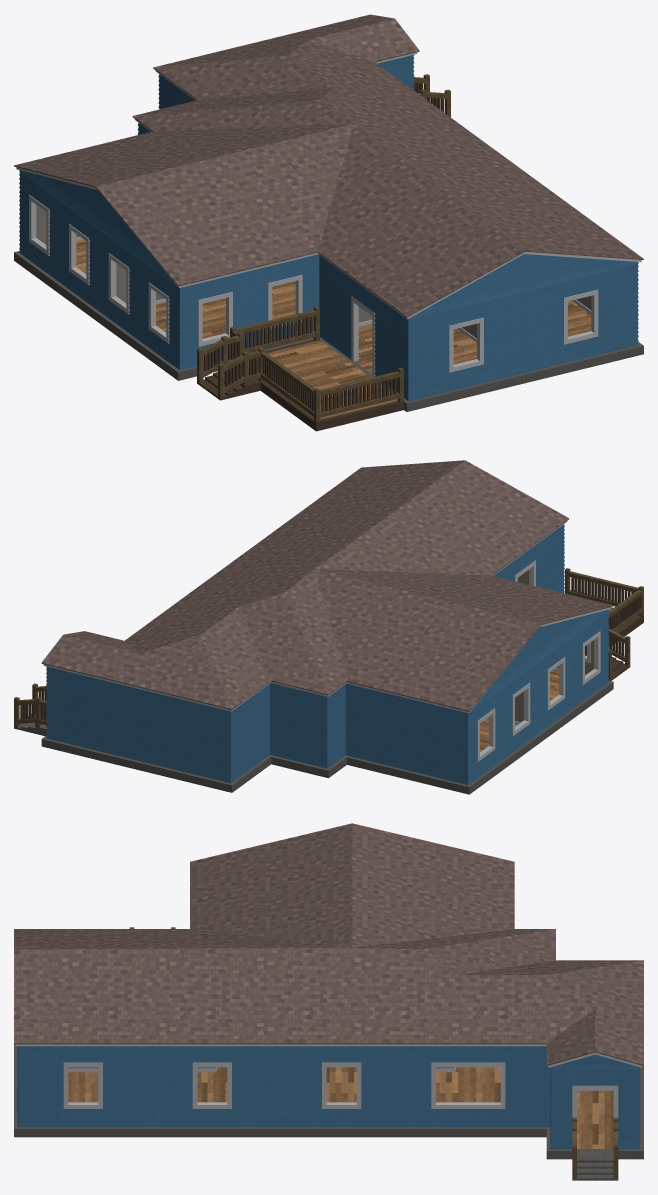
3 renders of one model, top to bottom at view 1: azimuth 30°, elevation 25°; view 2: azimuth 150°, elevation 25°; view 3: azimuth 270°, elevation 25°, orthographic. The views are drawn at different scales.
Visible parts, largest first — view 1: building_Roof, building_Siding, building_Floor, building_Frames, building_Posts_Lg, building_Porch, building_Posts_Sm; view 2: building_Roof, building_Siding, building_Floor, building_Posts_Lg, building_Frames, building_Posts_Sm, building_Porch; view 3: building_Roof, building_Siding, building_Floor, building_Frames, building_Porch, building_Posts_Lg.
Part boxes in pixels (x1=…): building_Roof: x1=14, y1=14, x2=643, y2=319; building_Siding: x1=19, y1=54, x2=638, y2=401; building_Floor: x1=14, y1=239, x2=643, y2=411; building_Frames: x1=29, y1=195, x2=598, y2=376; building_Posts_Lg: x1=197, y1=74, x2=450, y2=422; building_Porch: x1=197, y1=339, x2=403, y2=431; building_Posts_Sm: x1=204, y1=83, x2=443, y2=412; building_Roof: x1=41, y1=460, x2=613, y2=713; building_Siding: x1=46, y1=524, x2=608, y2=784; building_Floor: x1=41, y1=670, x2=613, y2=794; building_Posts_Lg: x1=14, y1=568, x2=643, y2=727; building_Frames: x1=477, y1=560, x2=600, y2=761; building_Posts_Sm: x1=20, y1=577, x2=639, y2=720; building_Porch: x1=14, y1=607, x2=643, y2=735; building_Roof: x1=14, y1=823, x2=643, y2=1067; building_Siding: x1=17, y1=1046, x2=640, y2=1149; building_Floor: x1=14, y1=1044, x2=643, y2=1159; building_Frames: x1=17, y1=1046, x2=618, y2=1117; building_Porch: x1=572, y1=1151, x2=618, y2=1180; building_Posts_Lg: x1=129, y1=927, x2=618, y2=1178.
Size of the model in its own units: 1613 by 444 by 1911.
5 materials, 5 textured.
